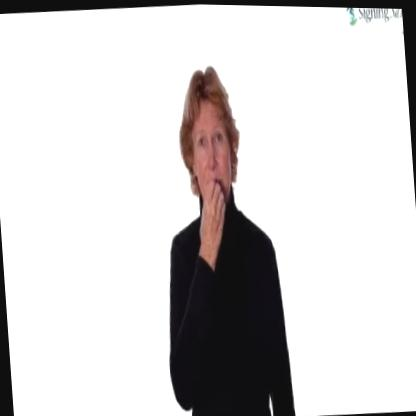Food: (166, 52, 257, 252)
